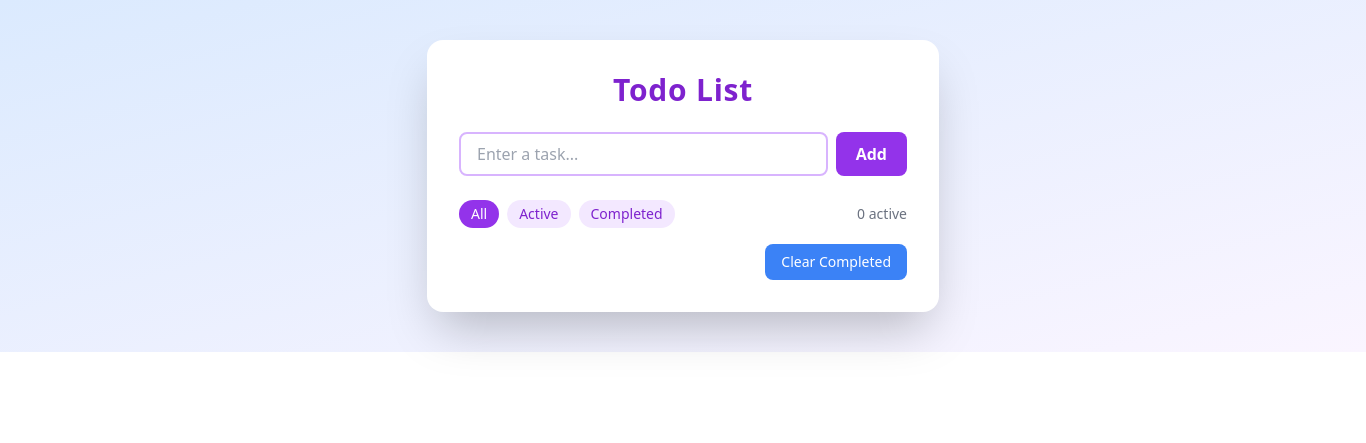
Test case: TodoList Component › edits a todo
In the field with placeholder "Enter a task...": (643, 154) [459,132,828,176], type "Old Task"
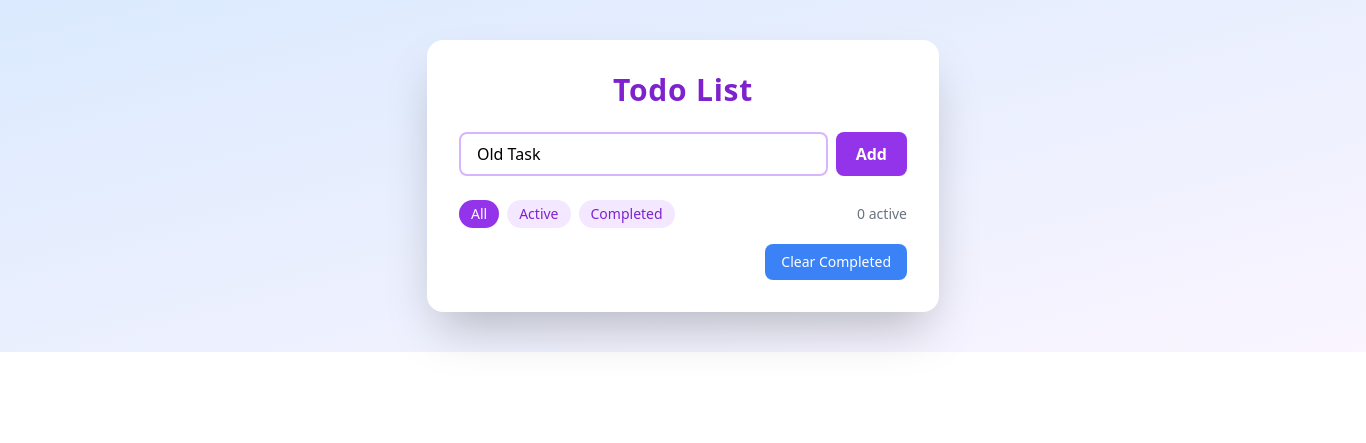
Click the button "Add": (871, 154) [836,132,907,176]
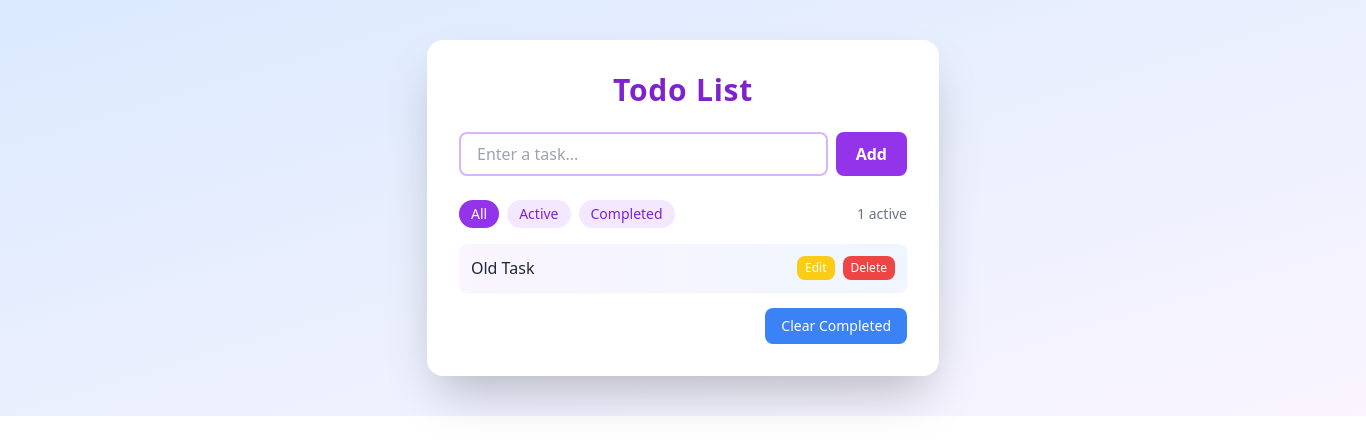
Note: Click edit button
Click the button "Edit": (816, 268) [797,256,834,280]
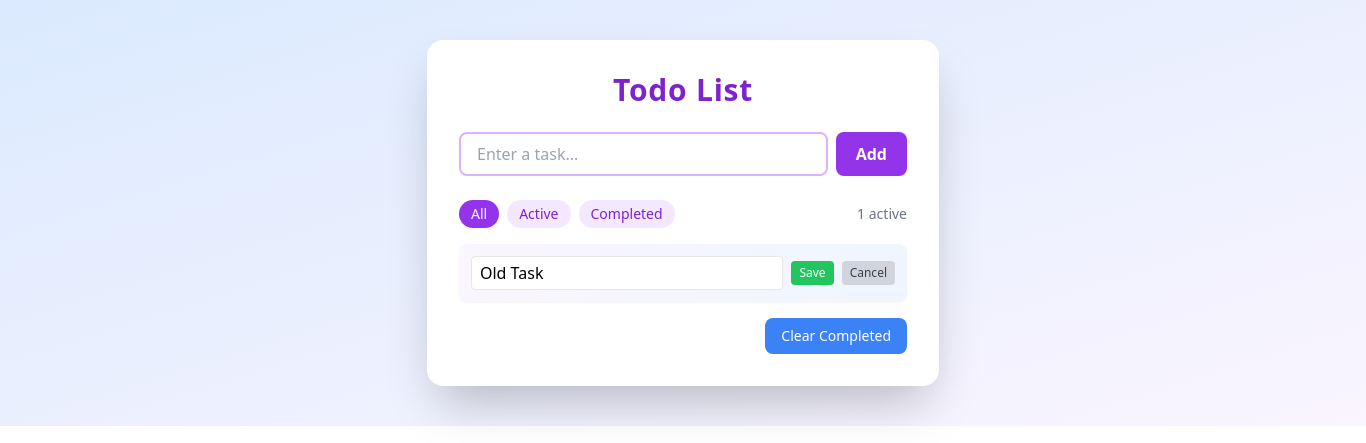
Note: Find the edit input and change its value
Replace the text in the field showing "Old Task" with "Updated Task": (627, 273) [471,256,784,290]
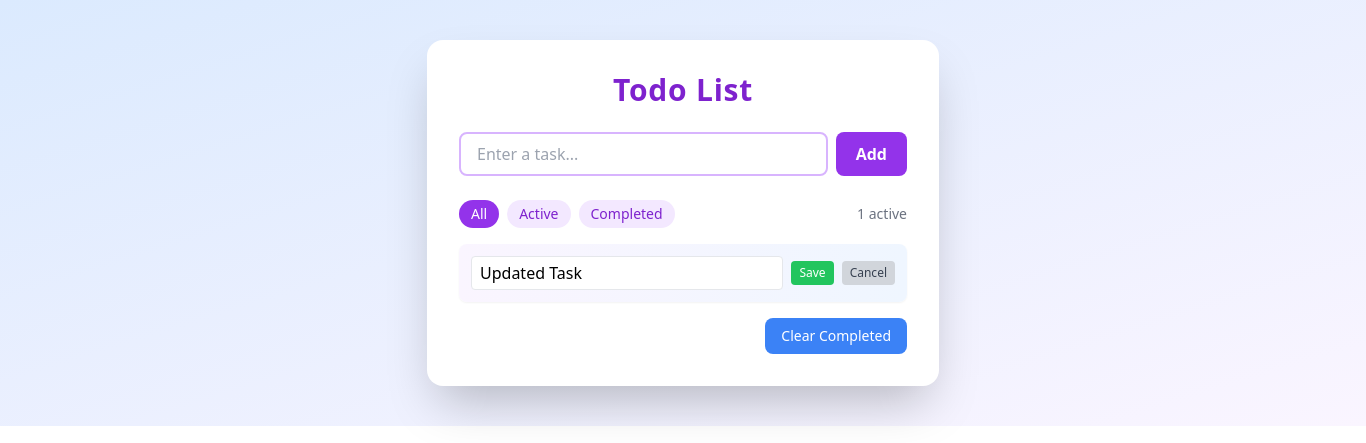
Note: Save the edit
Click the button "Save": (813, 273) [792,261,834,285]
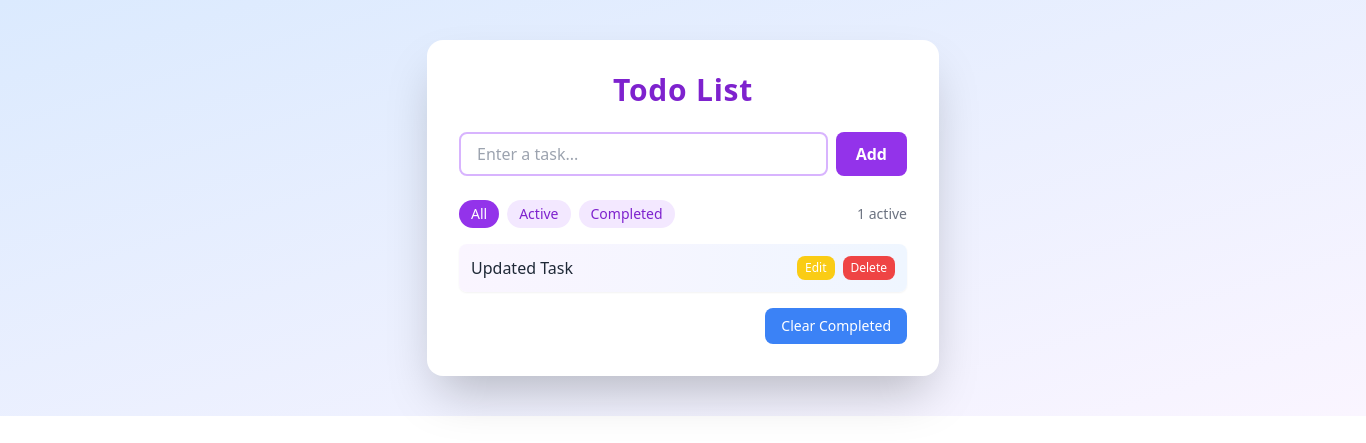
Expected: the text "Old Task" is not shown
Result: the text "Updated Task" is shown at [471,257,573,279]
